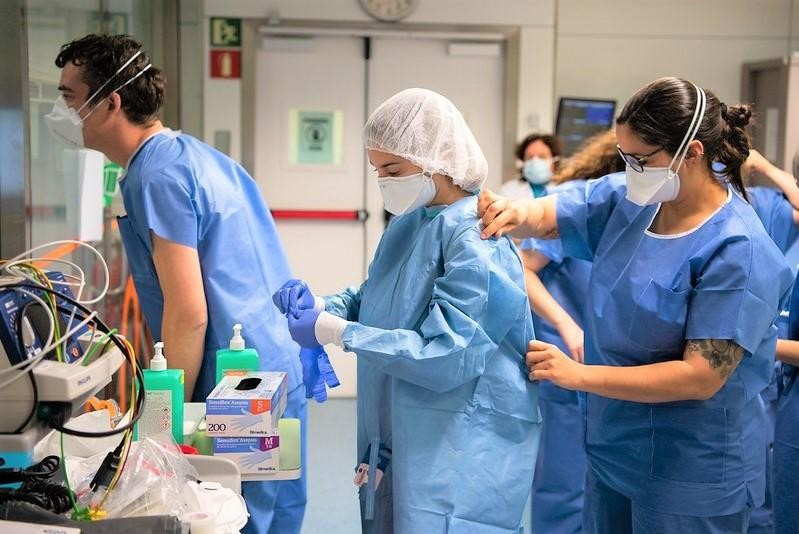Gloves: (285, 305, 325, 351), (271, 277, 313, 315)
with_mask: (371, 146, 438, 221), (42, 77, 100, 156), (619, 143, 677, 208), (521, 147, 553, 183)
